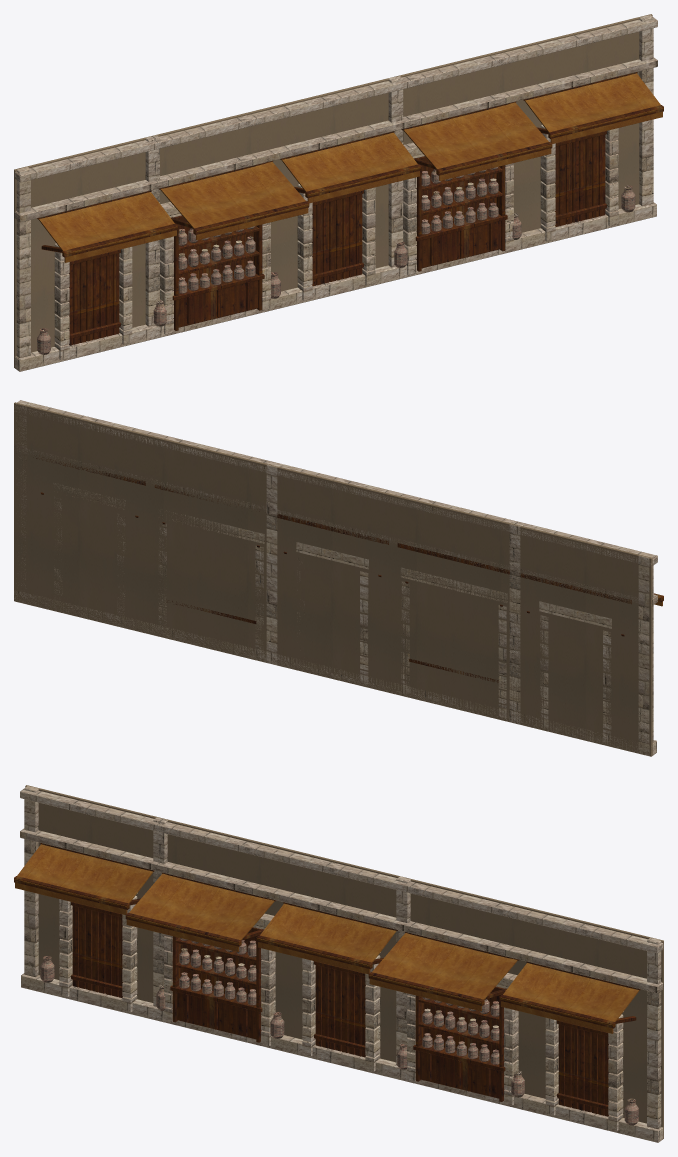
File: spice-east.glb
The picture shows the model from 3 angles, top to bottom: view 1: azimuth 30°, elevation 25°; view 2: azimuth 150°, elevation 25°; view 3: azimuth 330°, elevation 25°; orthographic projection.
Parts seen in each view (by area): view 1: Weathered plaster backing; view 2: Weathered plaster backing; view 3: Weathered plaster backing.
Boxes of the visible parts, <box> form: Weathered plaster backing: <box>14,14,663,371</box>; Weathered plaster backing: <box>14,400,663,756</box>; Weathered plaster backing: <box>14,785,663,1142</box>.
Bounding box in the file's own units: 15.12 × 4.5 × 1.72.
Materials: 5 (5 with a texture image).
